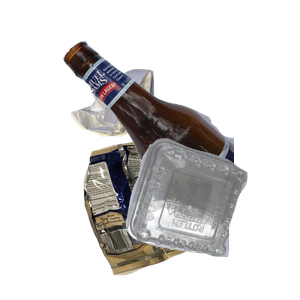glass: (60, 38, 300, 218)
paper: (68, 66, 215, 197)
plastic: (123, 136, 300, 300)
trash: (81, 137, 280, 300)
